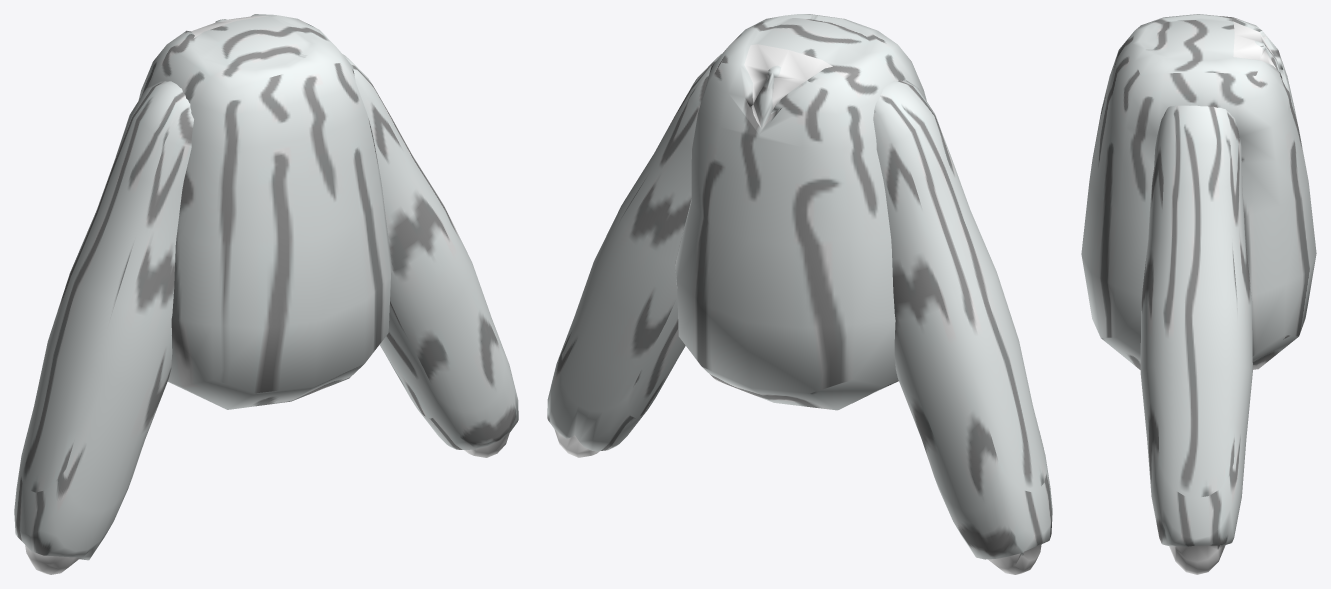
Rendered from item-tux.glb.
3 renders of one model, left to right at view 1: azimuth 30°, elevation 25°; view 2: azimuth 150°, elevation 25°; view 3: azimuth 270°, elevation 25°, orthographic. The views are drawn at different scales.
Bounding box in the file's own units: 13.07 × 12.49 × 5.93.
Materials: 2 (1 with a texture image).
